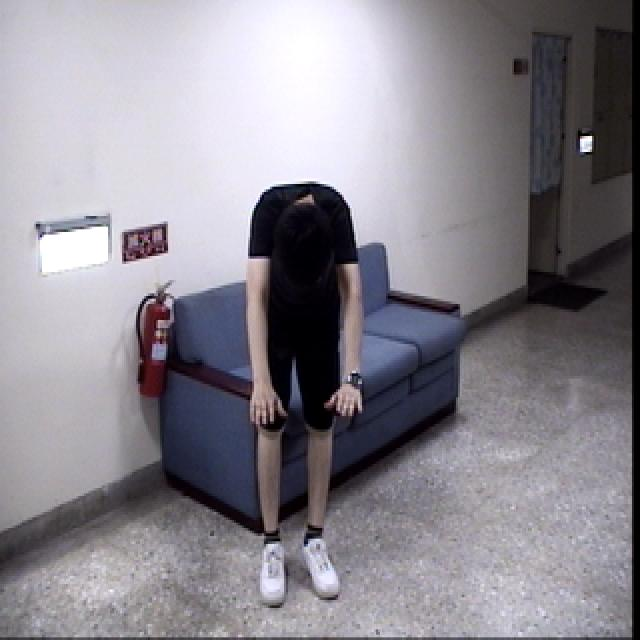bend: (236, 172, 372, 618)
